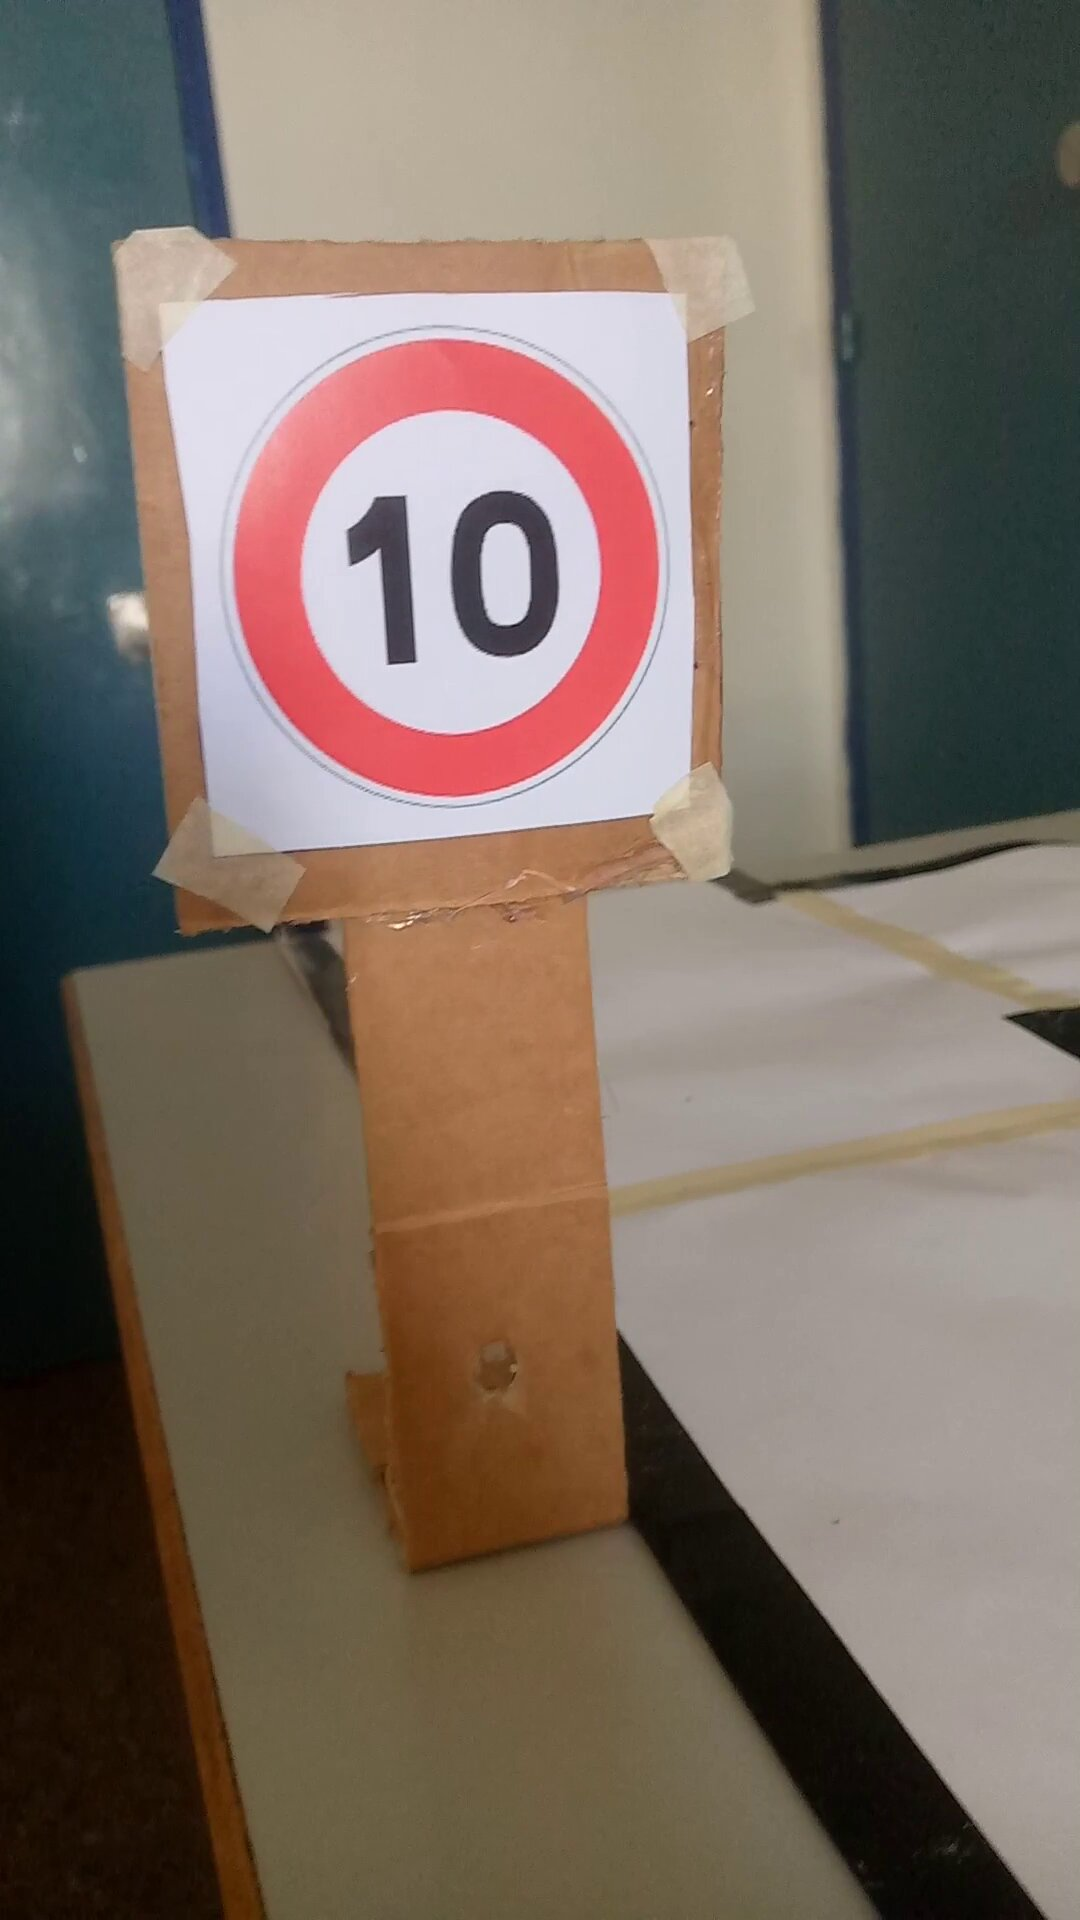panel011: (153, 284, 704, 837)
